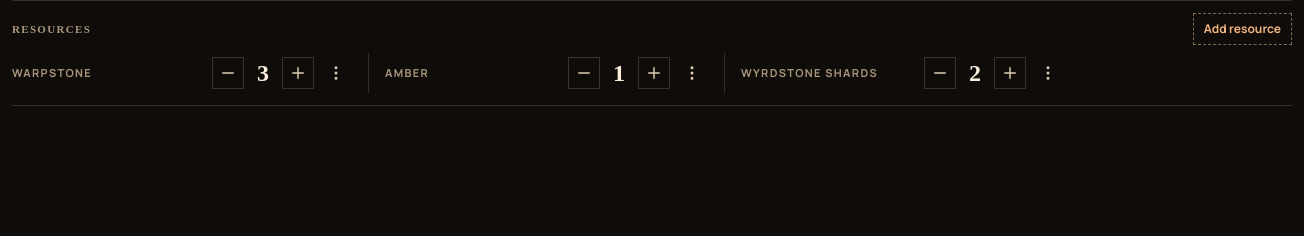
WarbandResources › keeps Rename, Sell and Delete on the others
The width and height of the screenshot is (1304, 236).
Click the button named "Amber actions" at (692, 73), box [676,57,708,89]
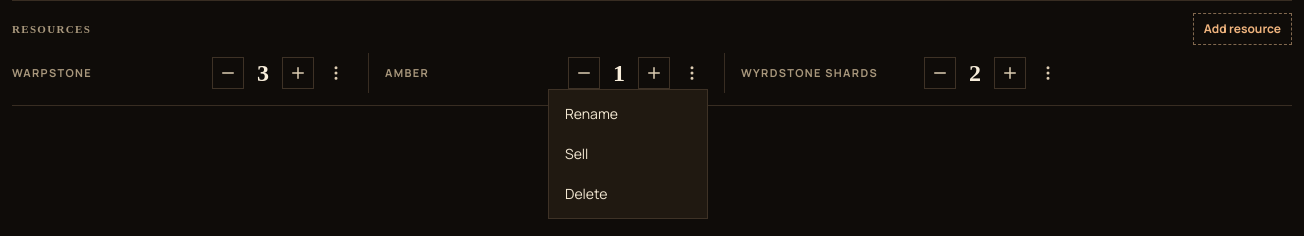
Now the menu items read "Rename", "Sell", "Delete", in this order, box [565,104,618,123]; [565,144,588,163]; [565,184,608,203]
